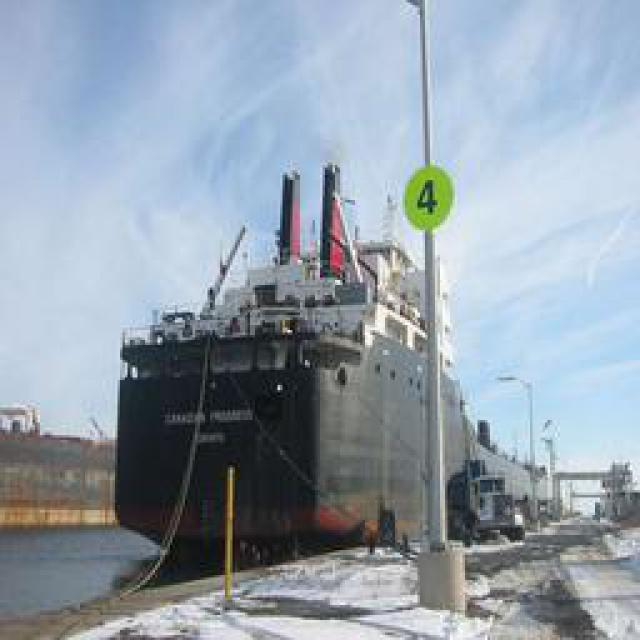Ship: (120, 149, 535, 589)
